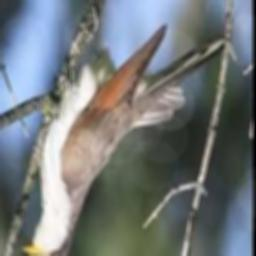Cuckoo: (20, 30, 226, 256)
